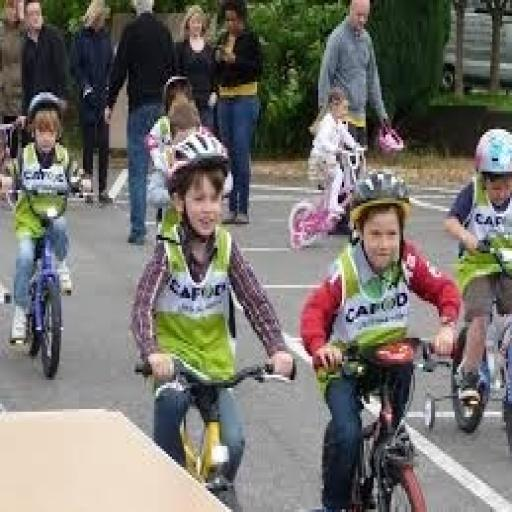cycling: (128, 127, 298, 509), (298, 169, 464, 509), (0, 90, 89, 348), (443, 124, 510, 412)
